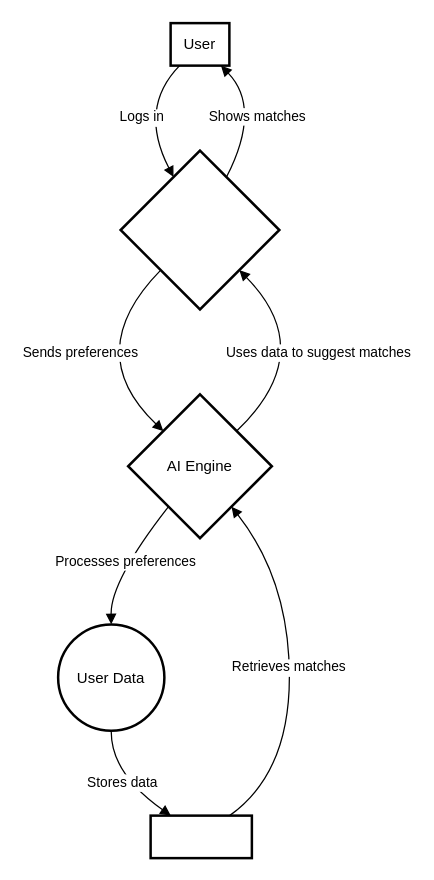
This 434x880 diagram has some shape labels left out. Each missing label, with the centre of its shape:
Database: the point at 200,836
Dating App: the point at 199,229
